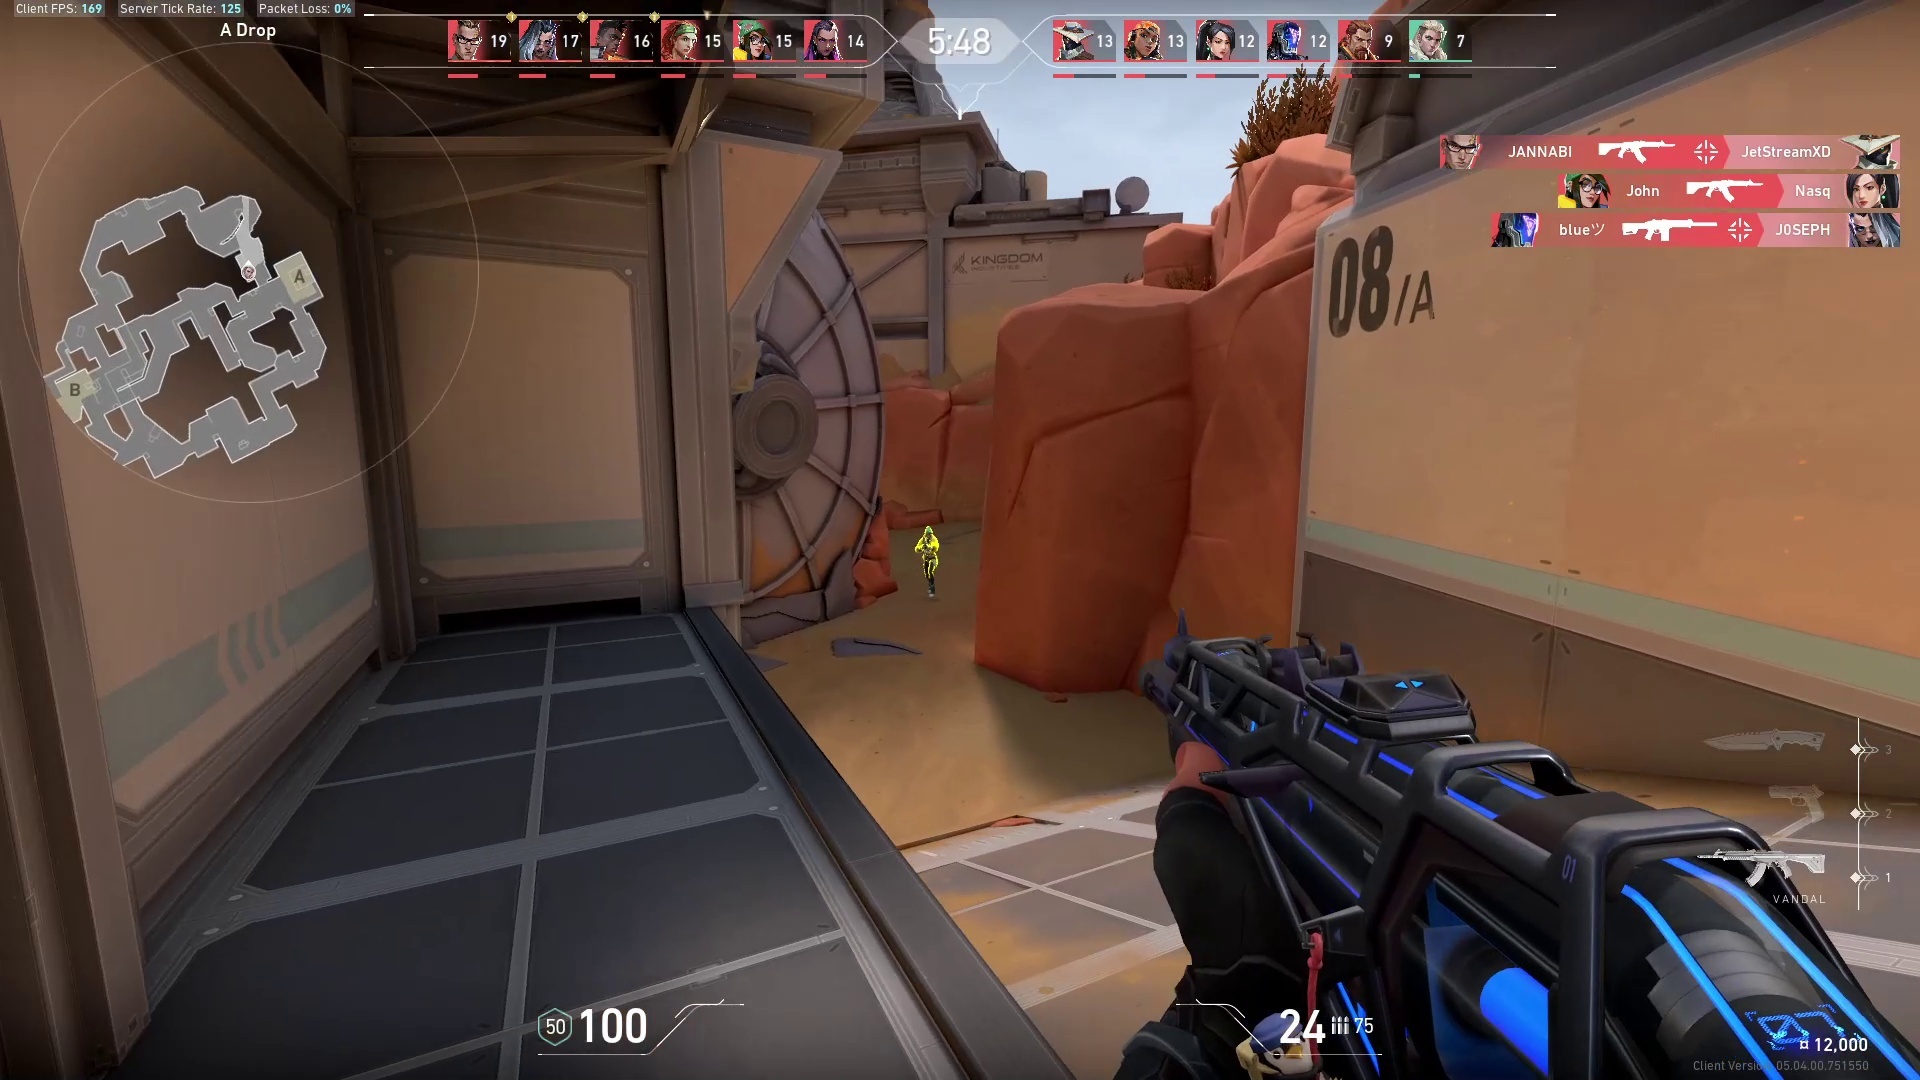enemy_body: (914, 537, 944, 600)
enemy_head: (922, 524, 934, 541)
